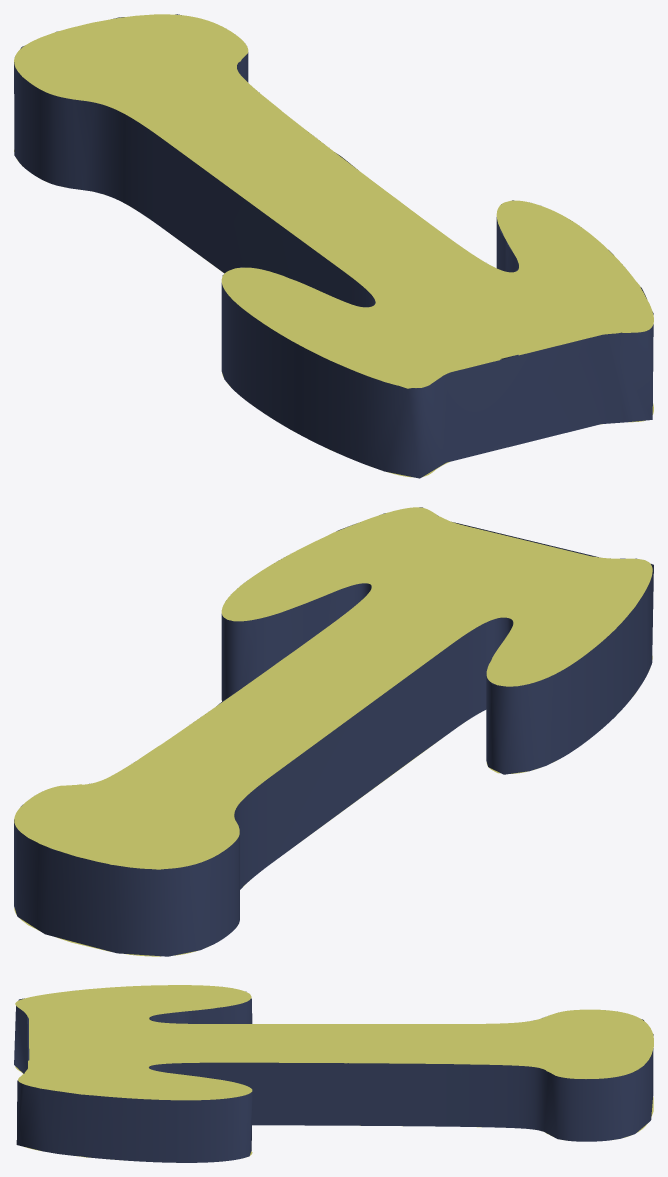
The model's file is t_boss.fbx.
3 views of the same model, one above another, from view 1: azimuth 30°, elevation 25°; view 2: azimuth 150°, elevation 25°; view 3: azimuth 270°, elevation 25° (orthographic). The views are drawn at different scales.
Visible parts, largest first — view 1: T; view 2: T; view 3: T.
Boxes of the visible parts, x1=… form: T: x1=14, y1=14, x2=653, y2=478; T: x1=14, y1=507, x2=653, y2=956; T: x1=14, y1=985, x2=653, y2=1162.
Bounding box in the file's own units: 0.632 × 0.1599 × 1.48.
